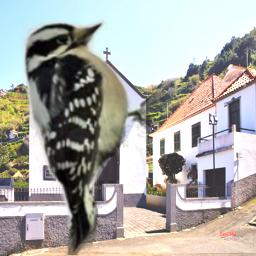Woodpecker: (20, 16, 164, 255)
